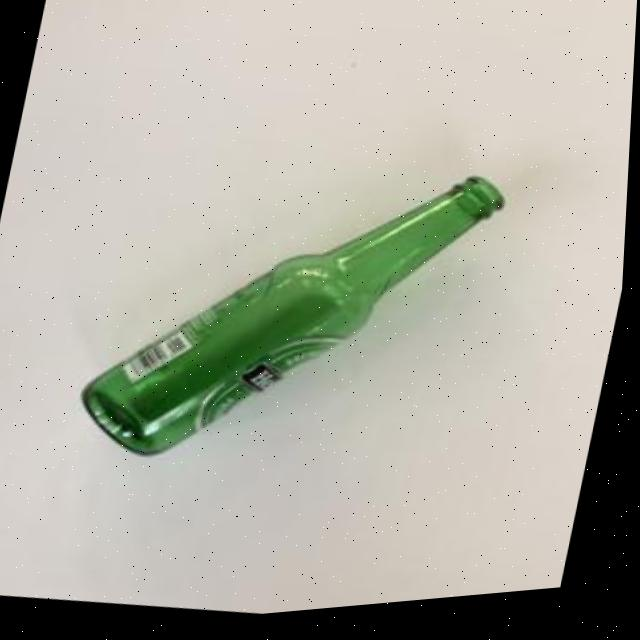glass: (57, 115, 537, 519)
